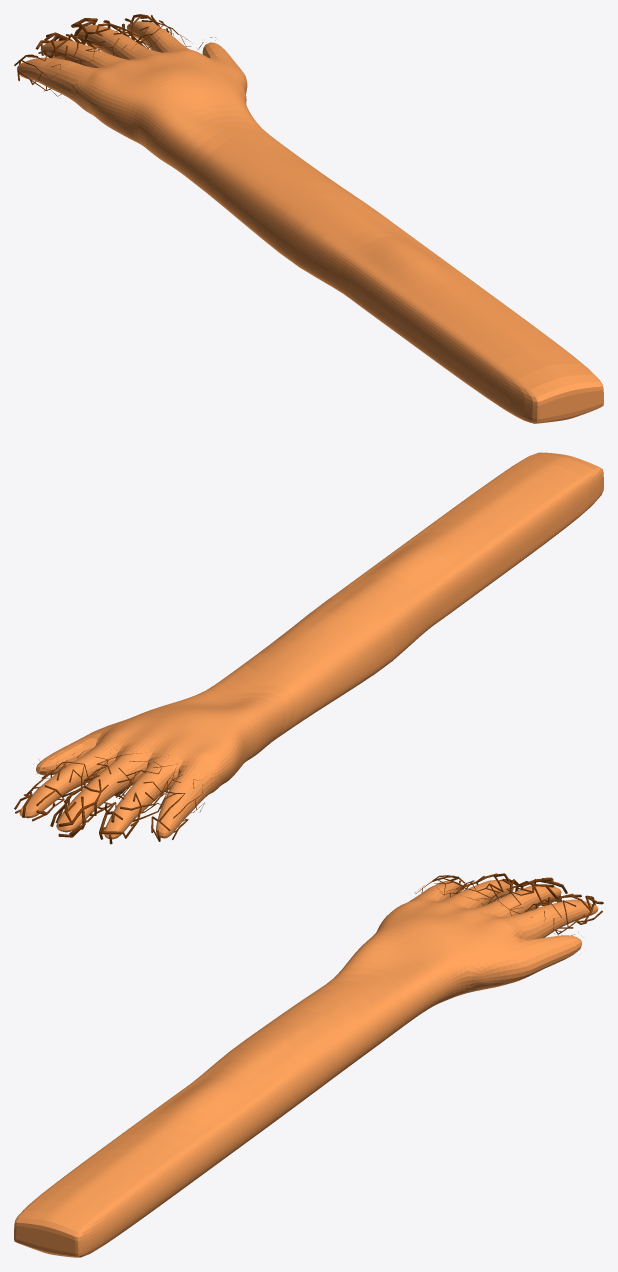
The model's file is Hand 25.fbx.
3 views of the same model, one above another, from view 1: azimuth 30°, elevation 25°; view 2: azimuth 150°, elevation 25°; view 3: azimuth 330°, elevation 25° (orthographic). The views are drawn at different scales.
Parts seen in each view (by area): view 1: HandBase.002; view 2: HandBase.002; view 3: HandBase.002.
Part boxes in pixels (x1,y1,x2,y2): HandBase.002: (14, 14, 603, 423); HandBase.002: (14, 452, 603, 844); HandBase.002: (14, 873, 603, 1257).
Bounding box in the file's own units: 281 × 97.52 × 1404.
